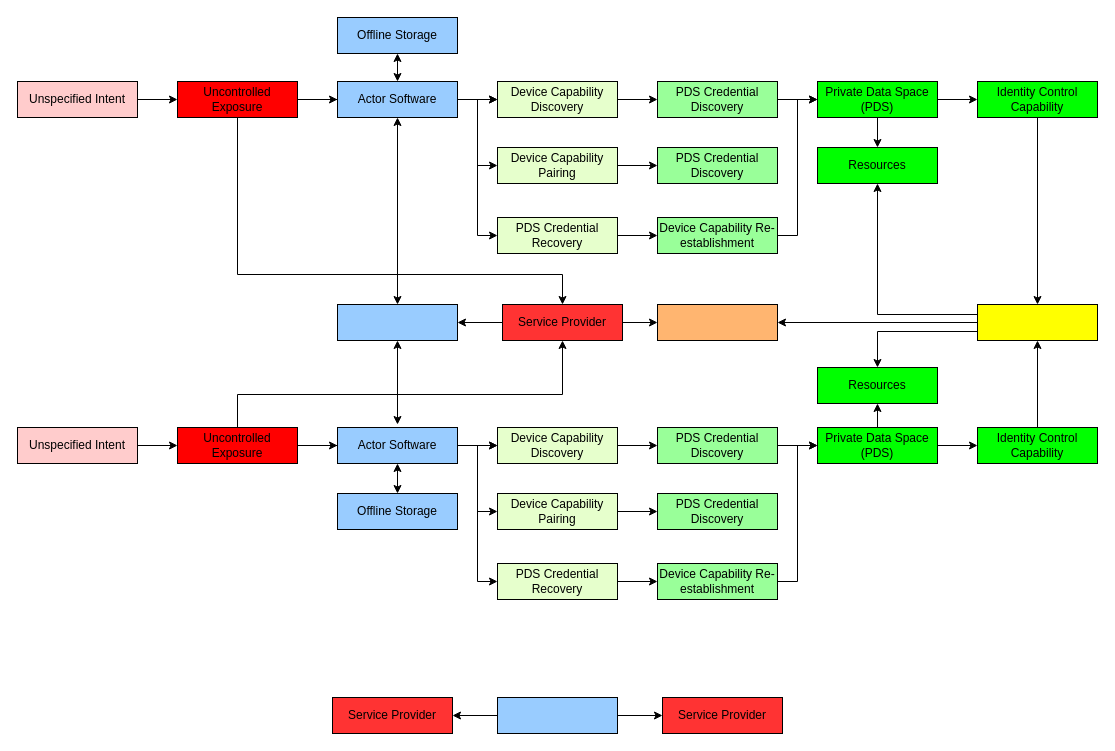
Some shapes in this 1115 by 751 pixel diagram are drawn without their labels. The shapes that lost their labels are listed below. From the top down, each one's box as (x1, y1, x2, y2) in pixels, then its label:
(336, 304, 458, 340): Base Stations
(656, 304, 778, 340): Services
(976, 304, 1098, 340): Identity Registry
(496, 696, 618, 734): Authorized Exchange
